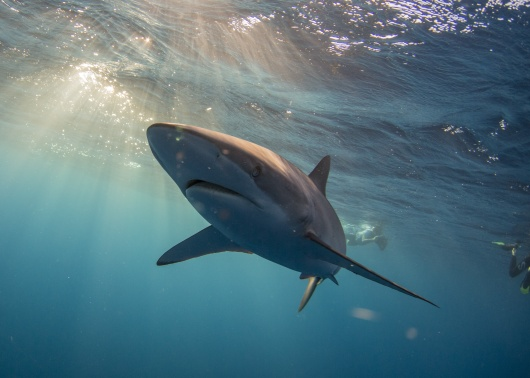Sedoso: (125, 106, 462, 330)
